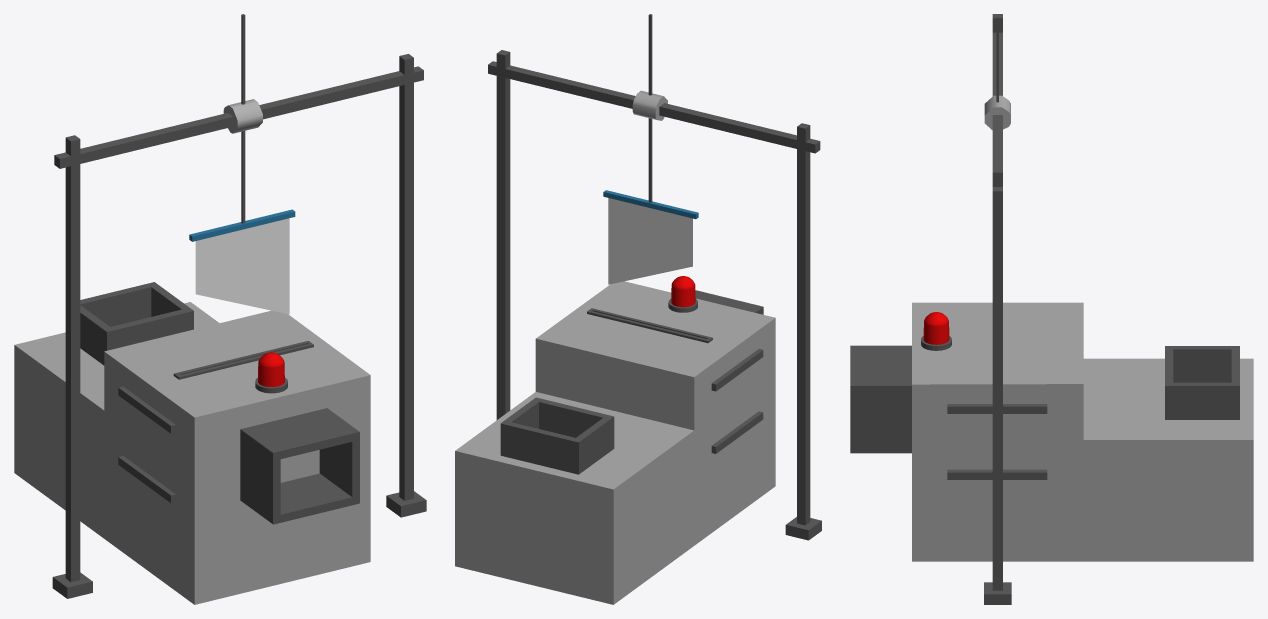
Rendered from WOOD PLANK MACHINE.fbx.
3 views of the same model, side by side, from view 1: azimuth 30°, elevation 25°; view 2: azimuth 150°, elevation 25°; view 3: azimuth 270°, elevation 25° (orthographic). The views are drawn at different scales.
Parts seen in each view (by area): view 1: pCube29, pCylinder3, pCube28, pSphere1; view 2: pCube29, pCylinder3, pCube28, pSphere1; view 3: pCube29, pCylinder3, pSphere1.
Boxes of the visible parts, x1,y1,x2,y2 form: pCube29: (14,282,370,604); pCylinder3: (52,54,426,598); pCube28: (189,14,295,314); pSphere1: (258,352,284,386); pCube29: (455,281,775,604); pCylinder3: (488,50,821,540); pCube28: (603,14,698,284); pSphere1: (671,276,695,307); pCube29: (850,302,1253,561); pCylinder3: (984,14,1011,604); pSphere1: (923,312,949,344).
Size of the model in its own units: 232 by 326 by 235.
